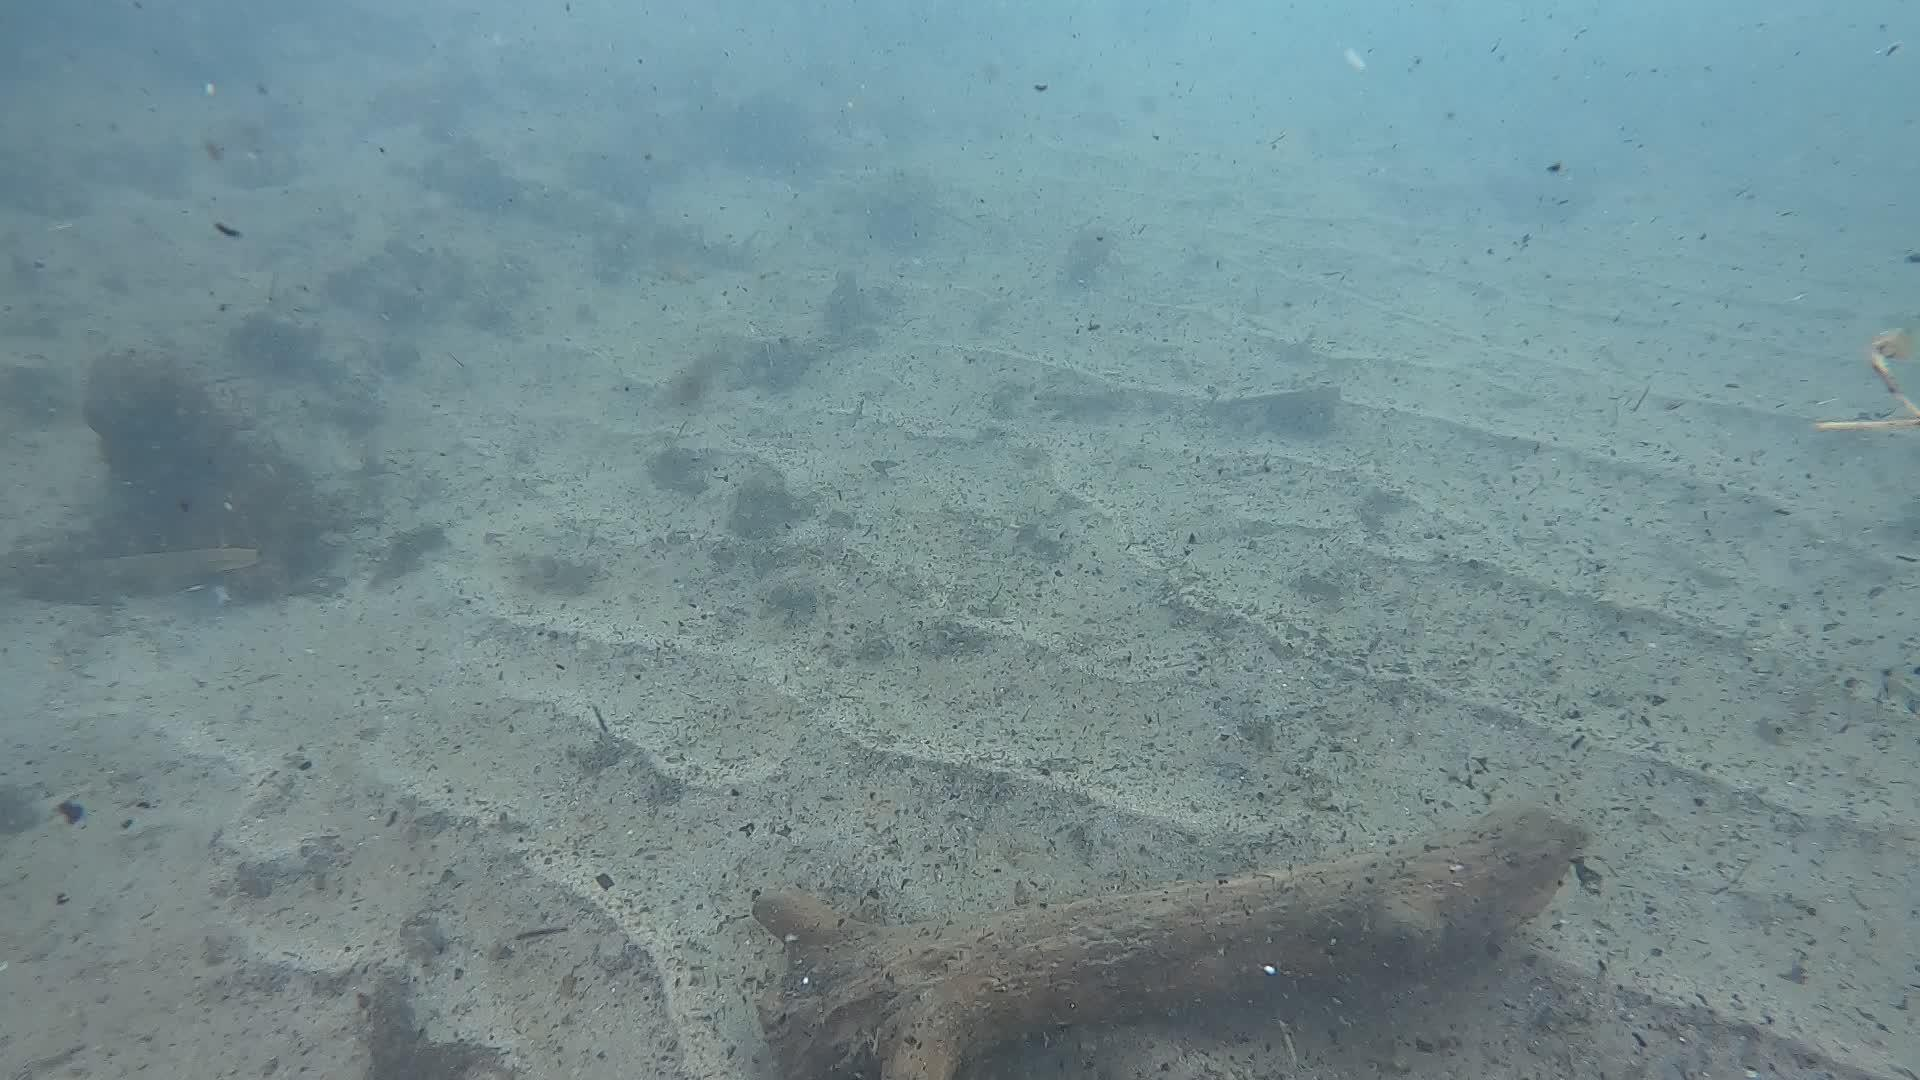wood: (746, 800, 1590, 1080)
